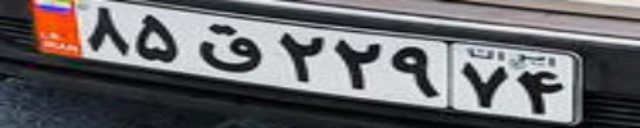2: (329, 38, 384, 91), (277, 31, 323, 84)
4: (516, 68, 564, 116)
5: (133, 14, 178, 62)
7: (458, 61, 508, 109)
8: (83, 5, 128, 56)
9: (390, 44, 438, 99)
ghaf: (195, 21, 264, 73)
